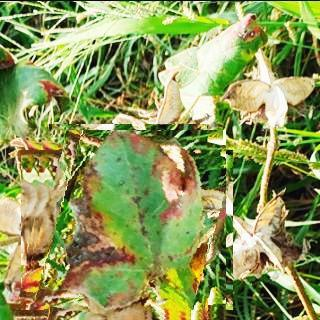blight: (26, 129, 226, 320)
